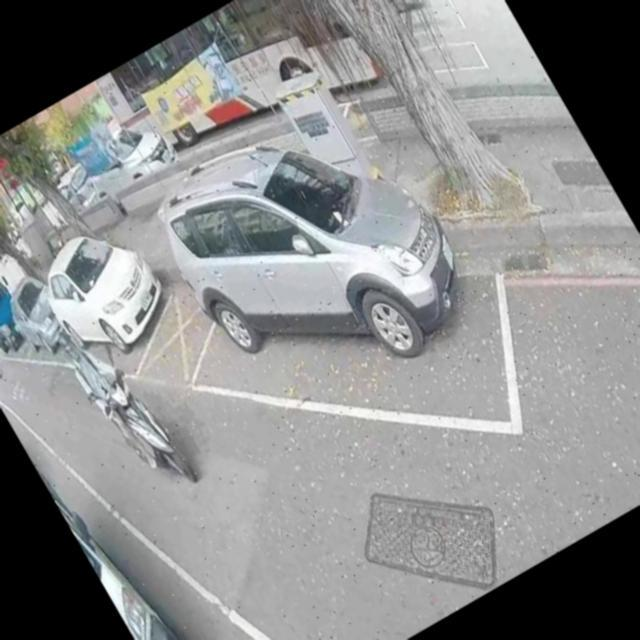person: (48, 300, 184, 482)
